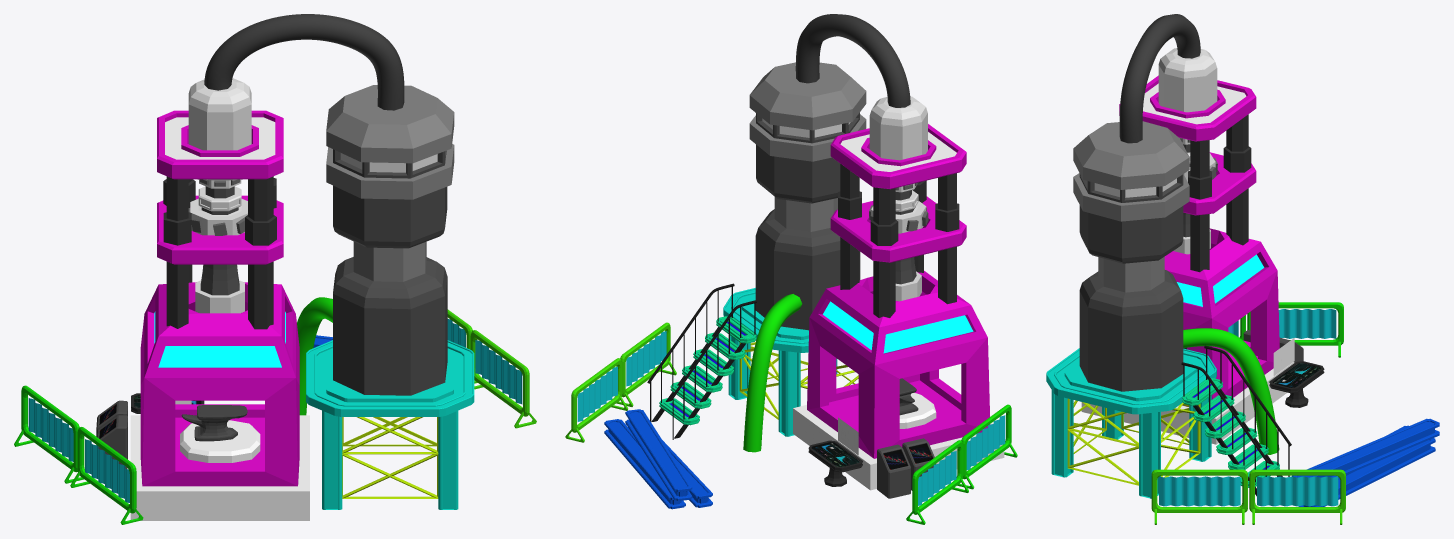
File: smithy.fbx
The picture shows the model from 3 angles, left to right: view 1: azimuth 30°, elevation 25°; view 2: azimuth 150°, elevation 25°; view 3: azimuth 270°, elevation 25°; orthographic projection. The views are drawn at different scales.
Visible parts, largest first — view 1: Plane.049; view 2: Plane.049; view 3: Plane.049.
Boxes of the visible parts, x1=… form: Plane.049: x1=14, y1=14, x2=536, y2=524; Plane.049: x1=565, y1=14, x2=1017, y2=524; Plane.049: x1=1046, y1=14, x2=1439, y2=524.
Bounding box in the file's own units: 1964 × 2133 × 1851.
